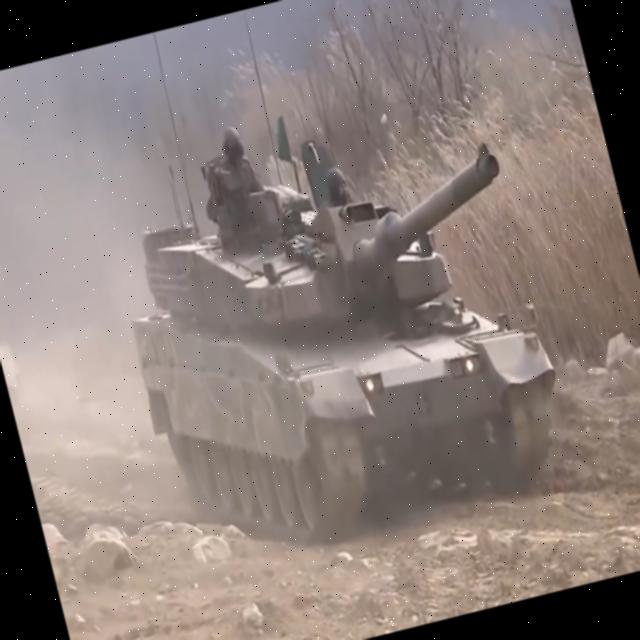korea tank: (85, 62, 581, 570)
